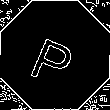P_NE: (28, 25, 82, 85)
